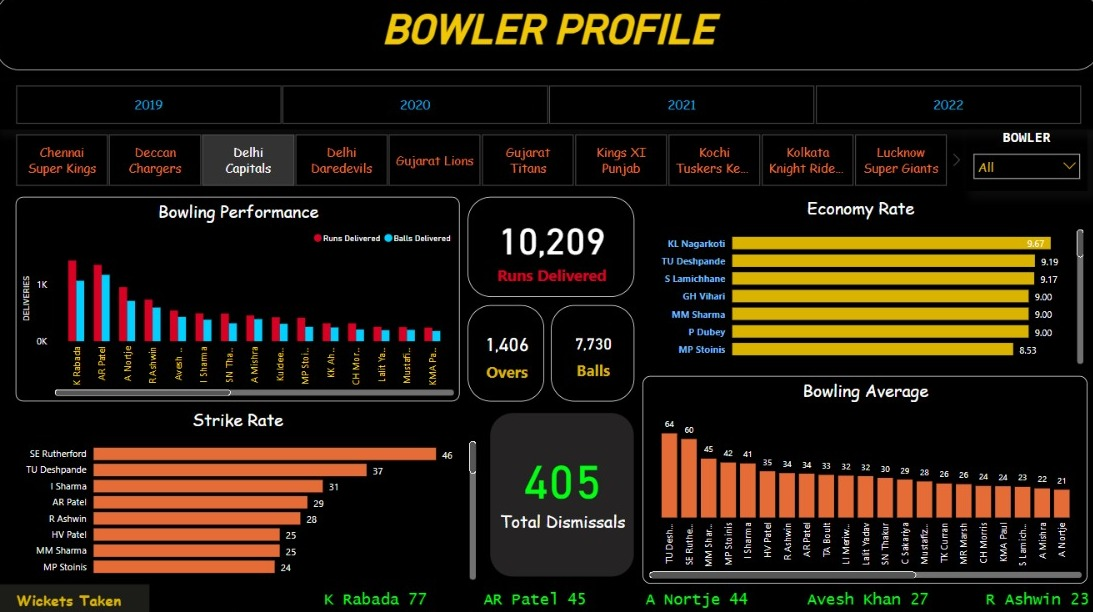

The dashboard page shown, as its layout file describes it:
{"tool":"powerbi","page":{"name":"Bowler","canvas":[1420,800],"ordinal":3},"visuals":[{"type":"textbox","box":[0,0,1420,98.6],"z":0},{"type":"slicer","fields":{"Values":["BALLER SEASONAL.Season"]},"box":[0,111.4,1420,62.9],"z":1000},{"type":"slicer","fields":{"Values":["BALLER SEASONAL.Balling Team"]},"box":[0,174.3,1247.1,80],"z":2000},{"type":"slicer","title":"BOWLER","fields":{"Values":["BALLER SEASONAL.Baller"]},"box":[1247.1,174.3,157.1,80],"z":3000},{"type":"card","fields":{"Values":["Sum(BALLER SEASONAL.Overs Bowled)"]},"box":[607.1,400,98.6,124.3],"z":4000},{"type":"card","fields":{"Values":["Sum(BALLER SEASONAL.Runs Delivered)"]},"box":[607.1,261.4,214.3,128.6],"z":5000},{"type":"card","fields":{"Values":["Sum(BALLER SEASONAL.Wickets Taken)"]},"box":[635.1,539.2,186.5,212.2],"z":6000},{"type":"clusteredColumnChart","title":"Bowling Performance","fields":{"Category":["BALLER SEASONAL.Baller"],"Y":["Sum(BALLER SEASONAL.Runs Delivered)","Sum(BALLER SEASONAL.Balls Delivered)"]},"box":[25.7,261.4,571.4,262.9],"z":7000},{"type":"card","fields":{"Values":["Sum(BALLER SEASONAL.Balls Delivered)"]},"box":[714.3,400,107.1,124.3],"z":8000},{"type":"clusteredBarChart","title":"Economy Rate","fields":{"Y":["Avg(BALLER SEASONAL.Economy Rate)"],"Category":["BALLER SEASONAL.Baller"]},"box":[821.6,260.8,582.4,220.3],"z":9000},{"type":"ScrollingTextVisual1448795304508","title":"Wicket Count","fields":{"Category":["BALLER SEASONAL.Baller"],"Measure Absolute":["Sum(BALLER SEASONAL.Wickets Taken)"]},"box":[197.3,759.5,1223,40.5],"z":10000},{"type":"textbox","box":[0,759.5,197.3,40.5],"z":11000},{"type":"columnChart","title":"Bowling Average","fields":{"Category":["BALLER SEASONAL.Baller"],"Y":["Avg(BALLER SEASONAL.Bowling Average)"],"Series":["BALLER SEASONAL.Balling Team"]},"box":[832.4,491.9,571.6,267.6],"z":12000},{"type":"barChart","title":"Strike Rate","fields":{"Category":["BALLER SEASONAL.Baller"],"Y":["Avg(BALLER SEASONAL.Strike Rate)"],"Series":["BALLER SEASONAL.Balling Team"]},"box":[0,533.8,623,225.7],"z":13000}]}

Visuals, with their boxes in screenshot pixels (x1, y1, x2, y2), scaled from the page's 1420x800 canvas onto the 1093x612 screenshot:
textbox: rect(0, 0, 1092, 75)
slicer - BALLER SEASONAL.Season: rect(0, 85, 1092, 133)
slicer - BALLER SEASONAL.Balling Team: rect(0, 133, 960, 195)
"BOWLER" slicer: rect(960, 133, 1081, 195)
card - Sum(BALLER SEASONAL.Overs Bowled): rect(467, 306, 543, 401)
card - Sum(BALLER SEASONAL.Runs Delivered): rect(467, 200, 632, 298)
card - Sum(BALLER SEASONAL.Wickets Taken): rect(489, 412, 632, 575)
"Bowling Performance" clusteredColumnChart: rect(20, 200, 460, 401)
card - Sum(BALLER SEASONAL.Balls Delivered): rect(550, 306, 632, 401)
"Economy Rate" clusteredBarChart: rect(632, 200, 1081, 368)
"Wicket Count" ScrollingTextVisual1448795304508: rect(152, 581, 1092, 611)
textbox: rect(0, 581, 152, 611)
"Bowling Average" columnChart: rect(641, 376, 1081, 581)
"Strike Rate" barChart: rect(0, 408, 480, 581)
